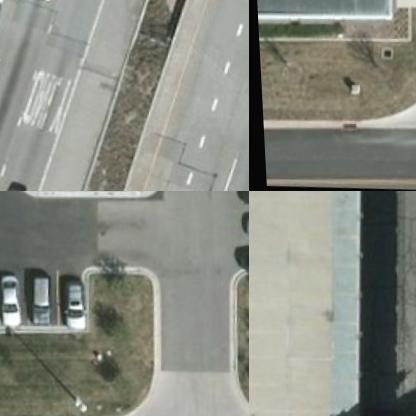car: (26, 266, 58, 324), (56, 270, 88, 327), (0, 267, 27, 326)
